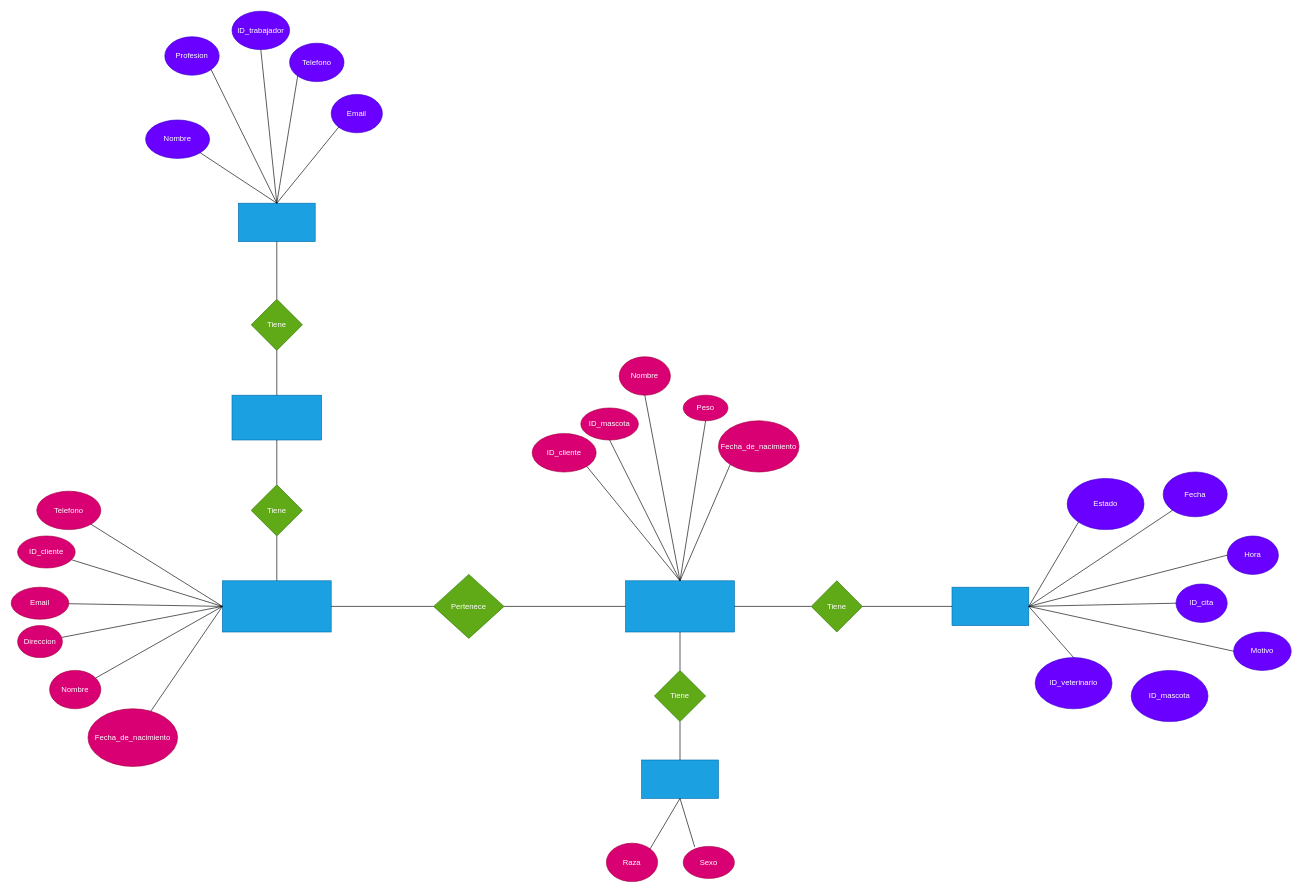
The diagram is 1302 pixels wide and 893 high, and some of its shapes have lost their labels. Each missing label, with the box of its shape:
CITA: (951, 587, 1029, 626)
CLIENTE: (222, 580, 331, 632)
ESPECIE: (641, 759, 718, 798)
MASCOTA: (625, 580, 734, 632)
TRABAJADORES: (238, 203, 315, 242)
VETERINARIA: (231, 395, 322, 440)
